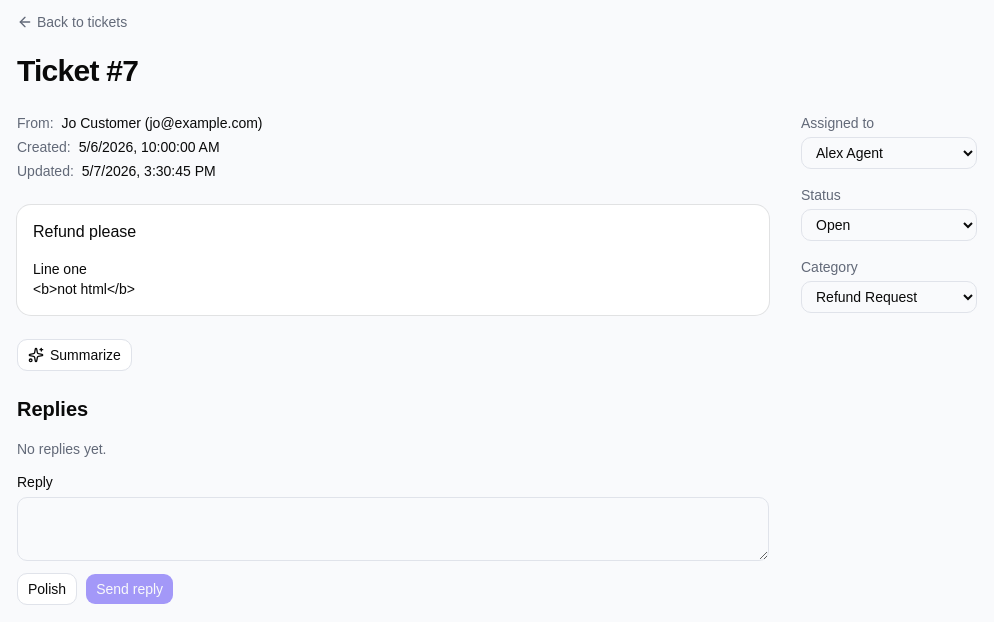
Test case: TicketDetailPage › shows an error when assigning fails
Select "Sam Support" in the dropdown named "Assigned to" at (889, 153), box [801,137,977,169]
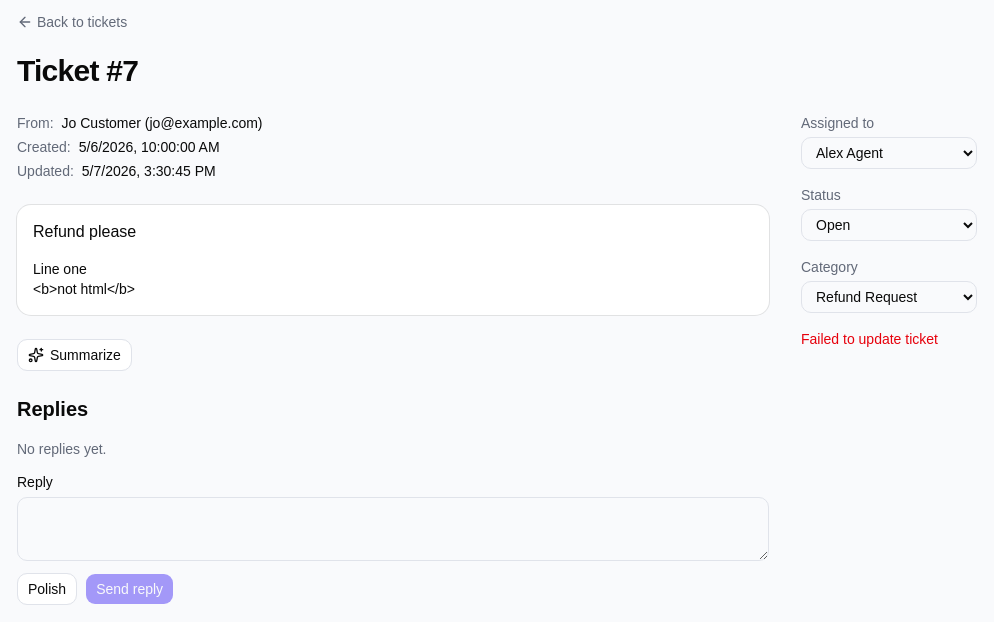
Result: the message reads "Failed to update ticket" at [801,331,938,347]
